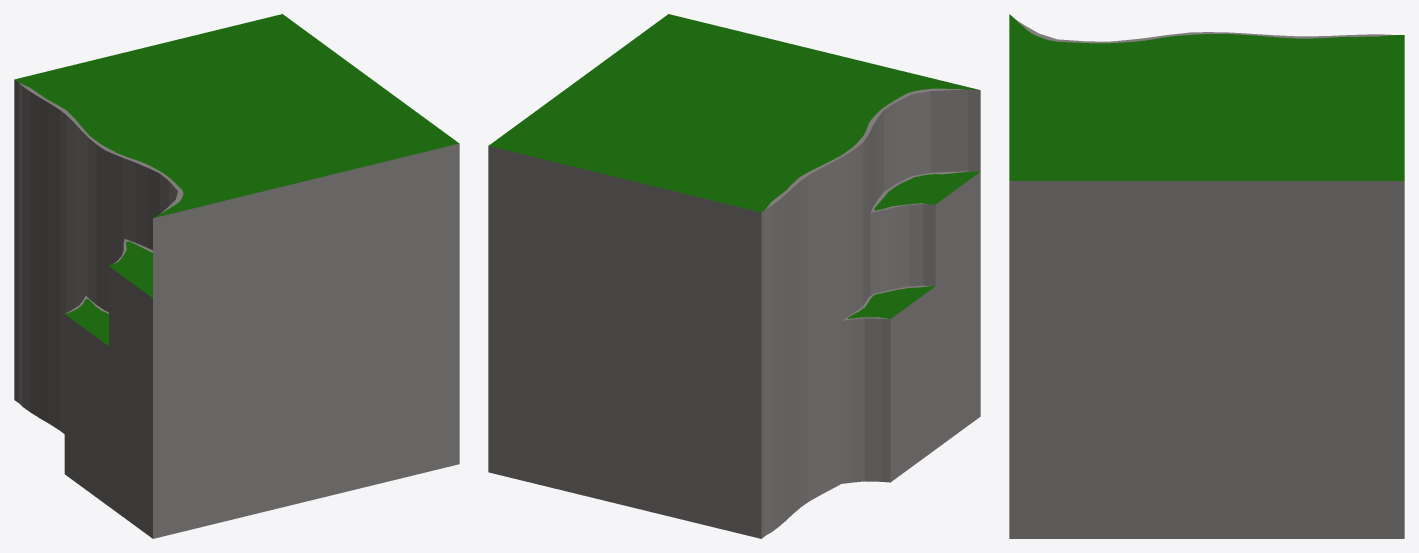
The model's file is MountainToStairWedge.fbx.
The picture shows the model from 3 angles, left to right: view 1: azimuth 30°, elevation 25°; view 2: azimuth 150°, elevation 25°; view 3: azimuth 270°, elevation 25°; orthographic projection. The views are drawn at different scales.
Parts seen in each view (by area): view 1: Plane.019; view 2: Plane.019; view 3: Plane.019.
Part boxes in pixels (x1,y1,x2,y2): Plane.019: (14,14,459,538); Plane.019: (488,14,980,538); Plane.019: (1009,14,1404,538).
Size of the model in its own units: 100 by 100 by 100.
